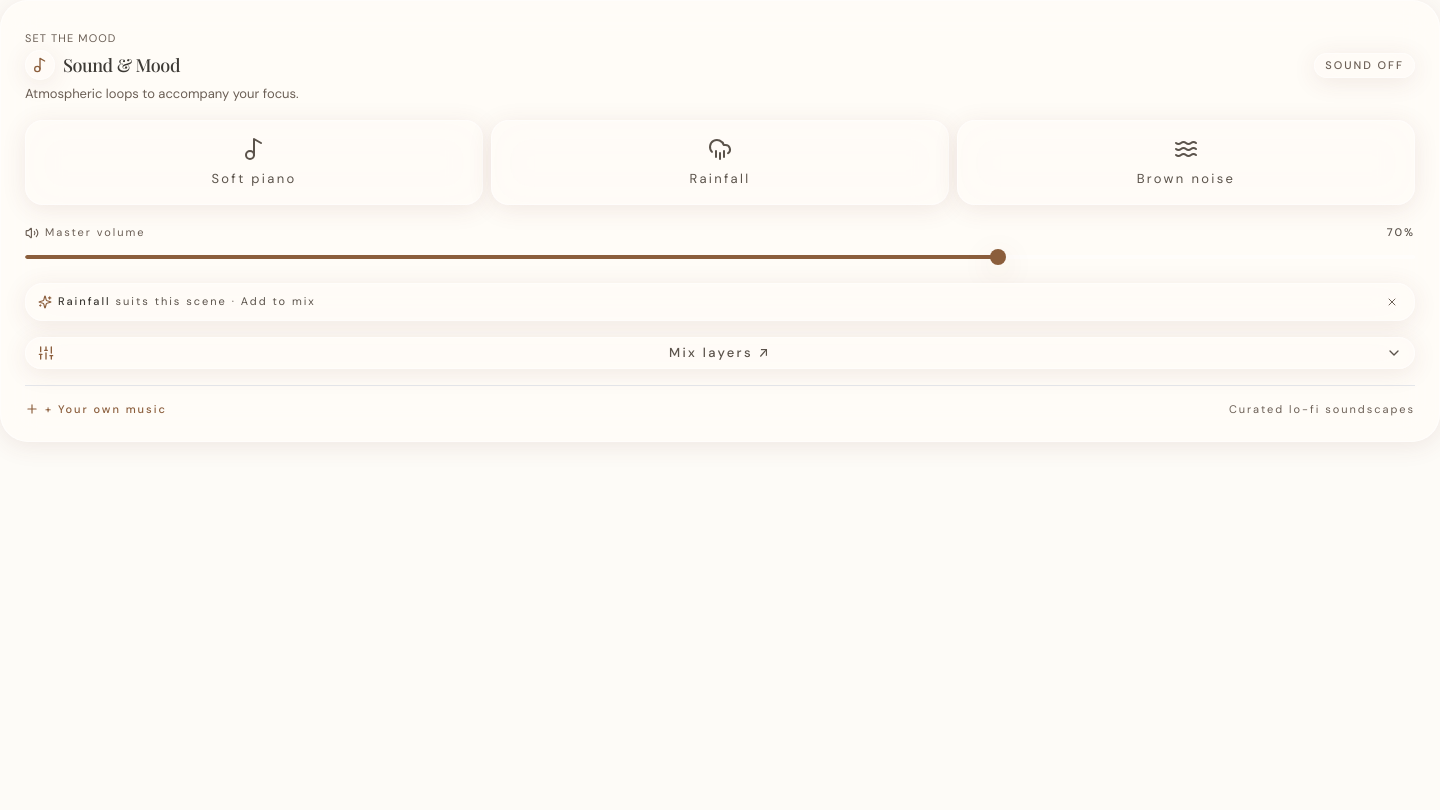
Test: SetTheMoodCard › expands and collapses Mix Layers panel
The width and height of the screenshot is (1440, 810).
Step 1. Click the button "Mix layers ↗" → (720, 353), box [25,337,1415,369]
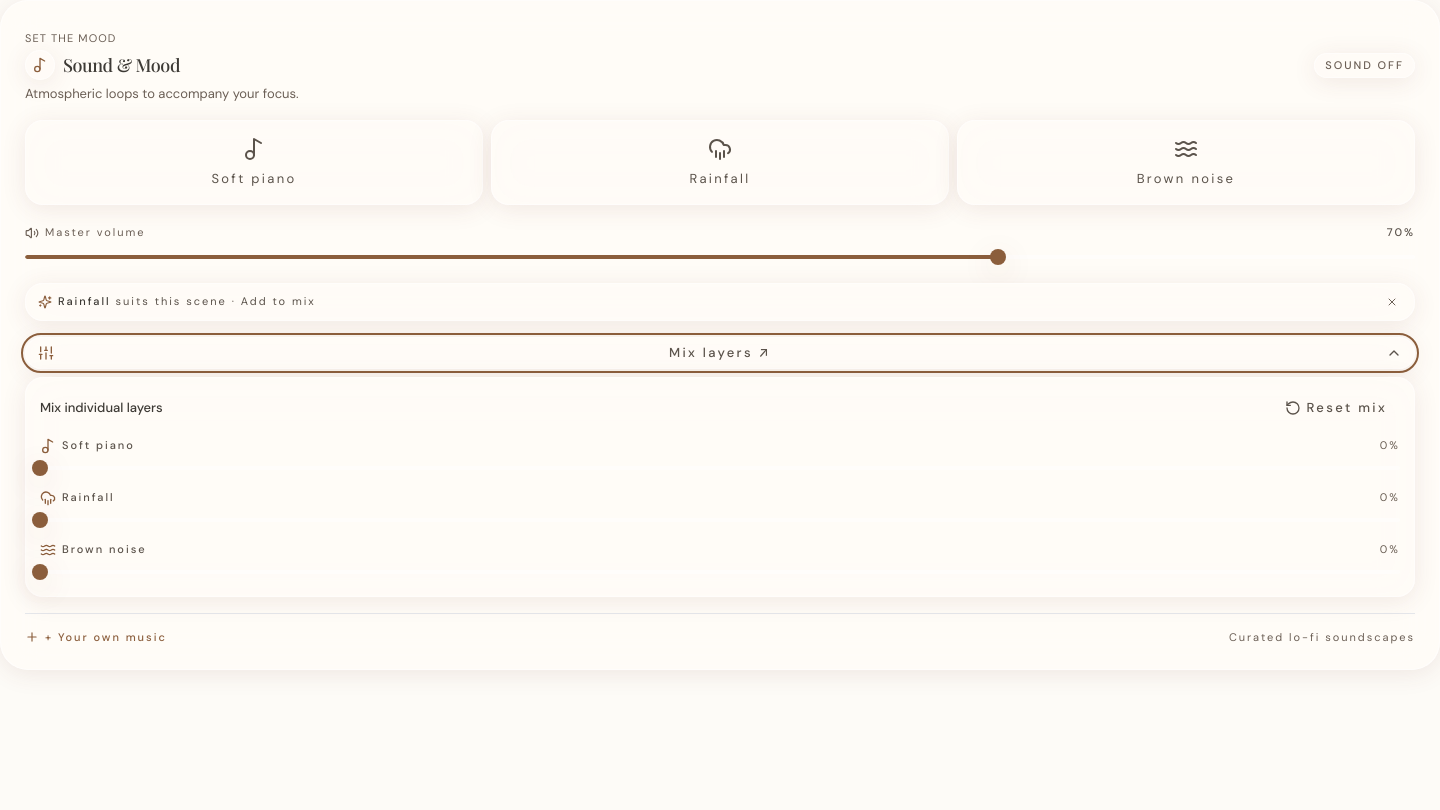
Now the element with test id "mix-layers-panel" is shown, box [25,377,1415,597]
Step 2. Click the button "Mix layers ↗" → (720, 353), box [25,337,1415,369]
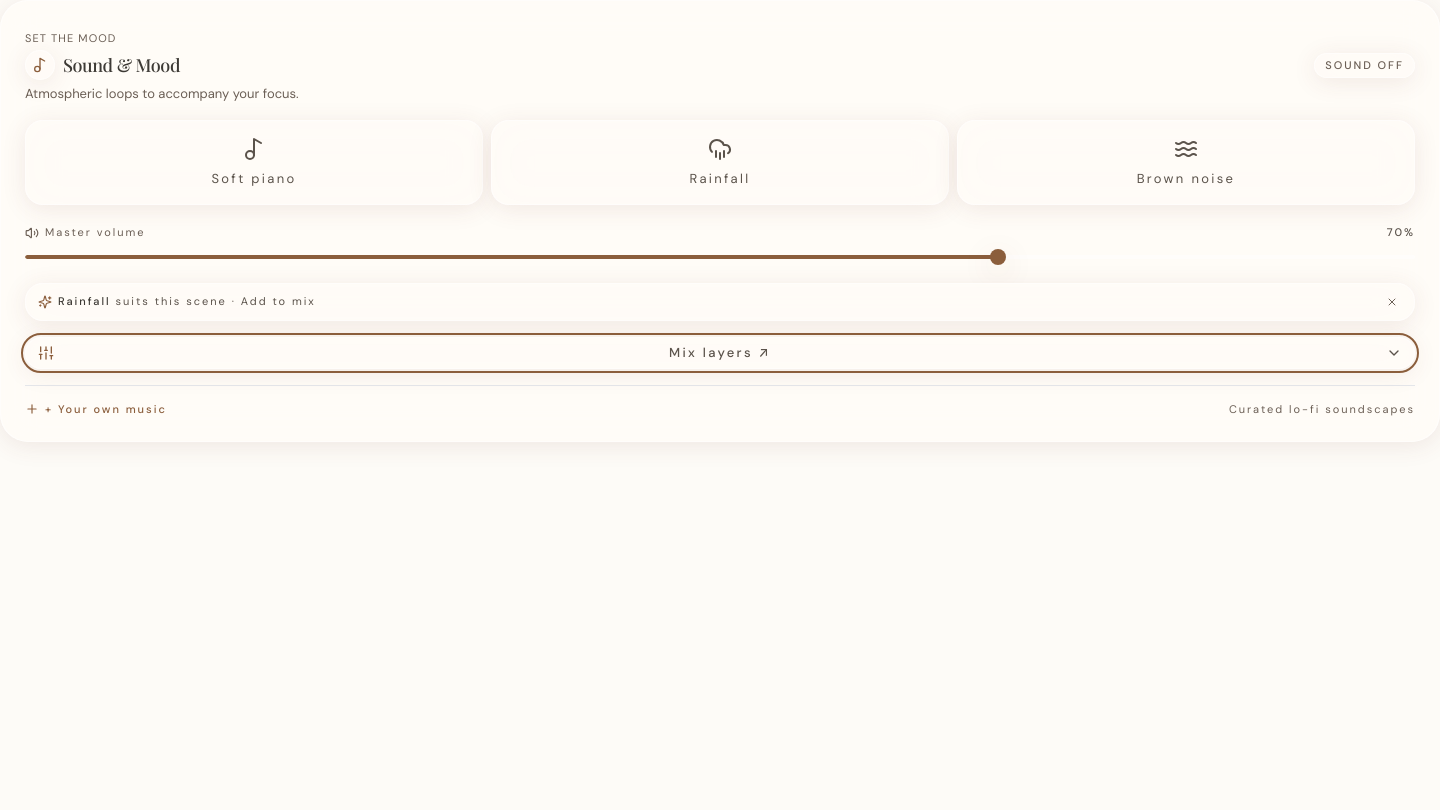
Now the element with test id "mix-layers-panel" is gone
